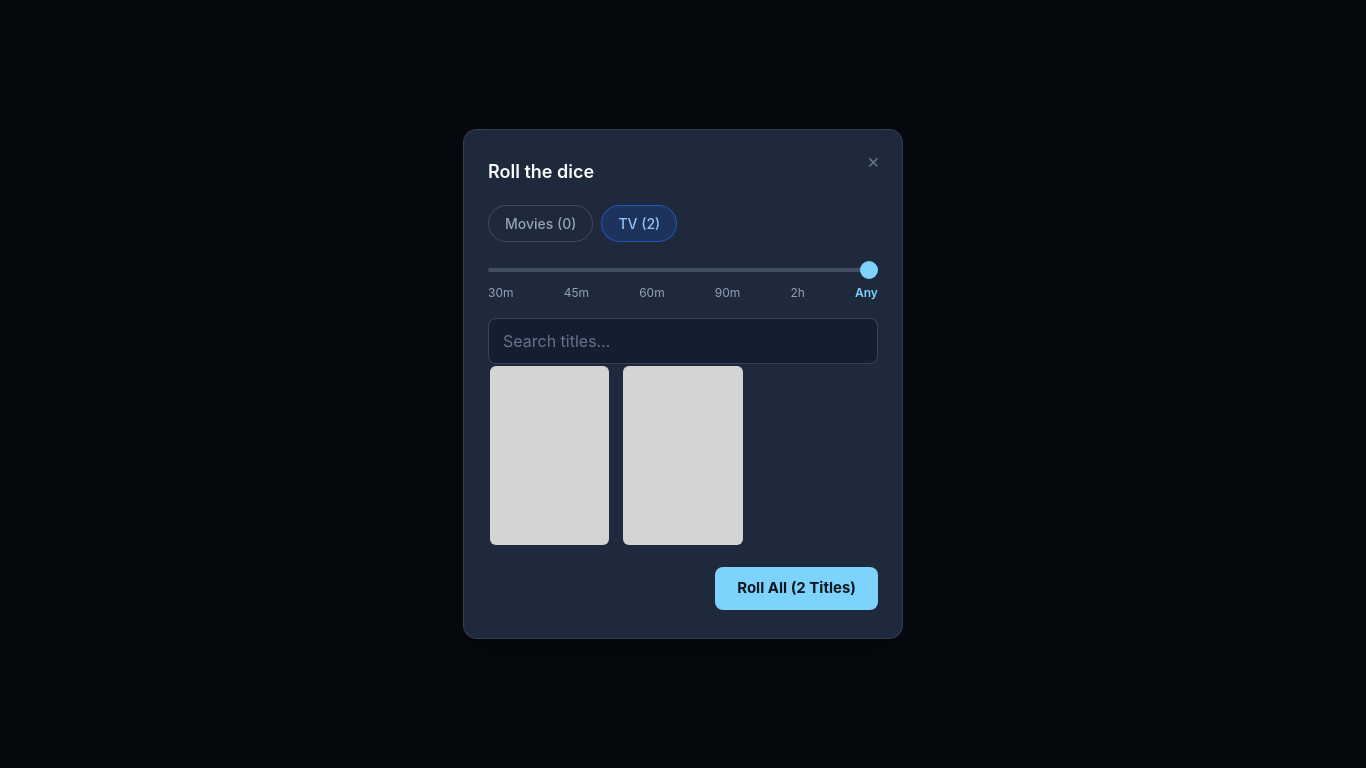
Scenario: RollTheDiceModal — media toggle (#366) › says the side is empty rather than blaming the time window
Click the button "Movies (0)" at coordinates (541, 224), box [488,205,593,242]
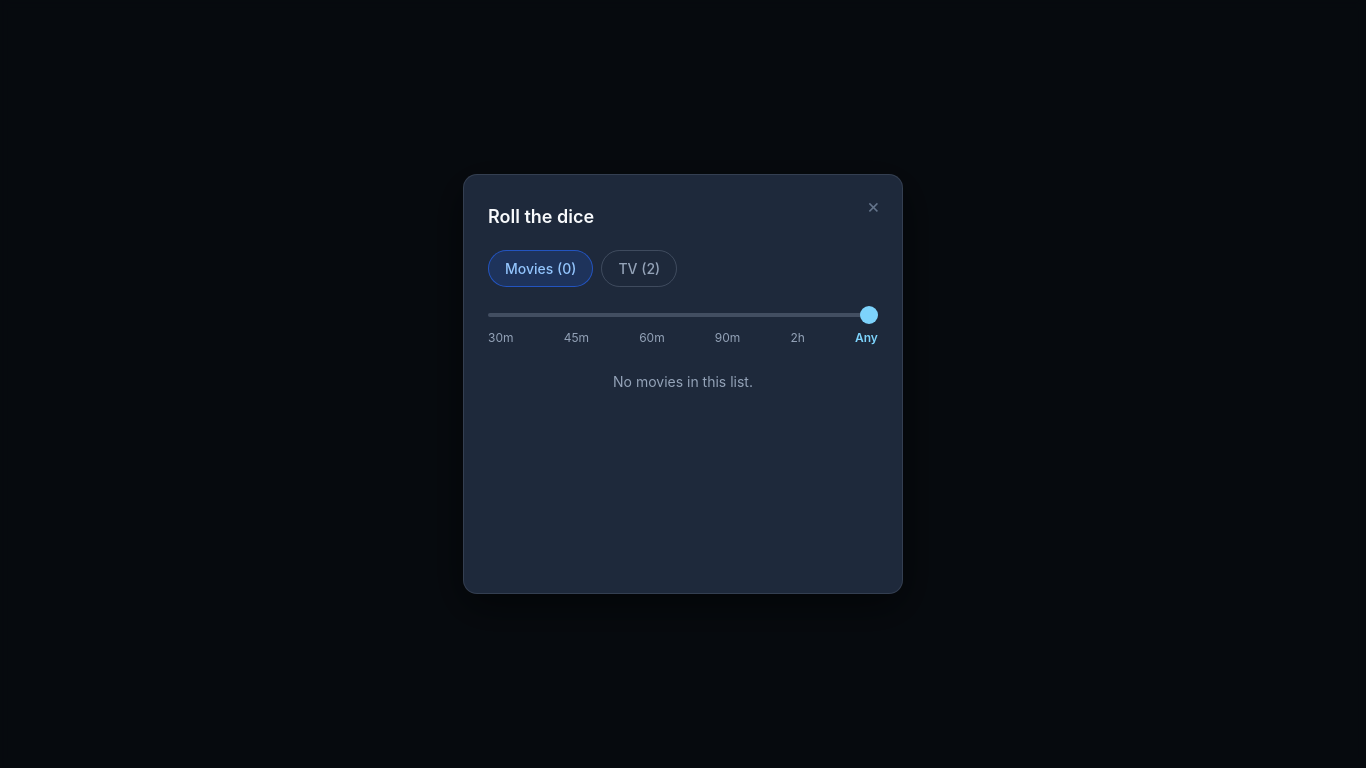
Result: the text "No movies in this list." is shown at [613,373,753,390]
